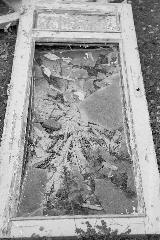glass: (18, 40, 142, 220)
